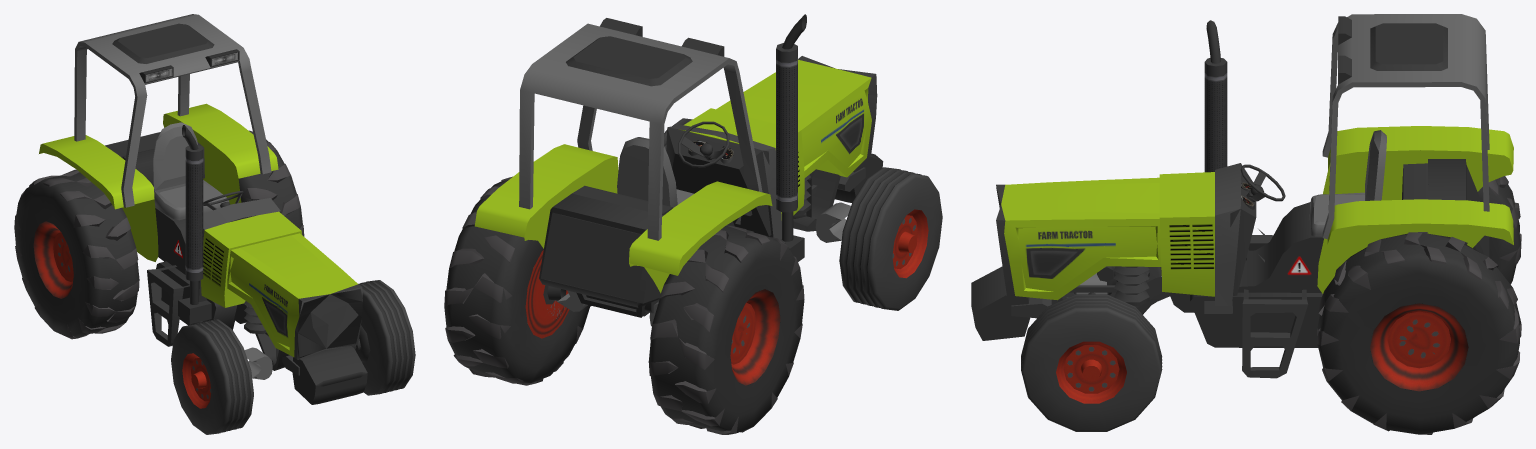
The model's file is tractor.fbx.
3 renders of one model, left to right at view 1: azimuth 30°, elevation 25°; view 2: azimuth 150°, elevation 25°; view 3: azimuth 270°, elevation 25°, orthographic. The views are drawn at different scales.
Parts seen in each view (by area): view 1: Tractor Body_Textures Body Tractor_0, Tractor Wheel_BR_Textures Wheel_0, Tractor Wheel_FR_Textures Wheel_0, Tractor Wheel_FL_Textures Wheel_0, Tractor Wheel_BL_Textures Wheel_0; view 2: Tractor Body_Textures Body Tractor_0, Tractor Wheel_BR_Textures Wheel_0, Tractor Wheel_BL_Textures Wheel_0, Tractor Wheel_FR_Textures Wheel_0, Steer_Textures Body Tractor_0; view 3: Tractor Body_Textures Body Tractor_0, Tractor Wheel_BL_Textures Wheel_0, Tractor Wheel_FL_Textures Wheel_0, Tractor Wheel_BR_Textures Wheel_0, Steer_Textures Body Tractor_0.
Boxes of the visible parts, x1,y1,x2,y2 form: Tractor Body_Textures Body Tractor_0: (39,14,370,404); Tractor Wheel_BR_Textures Wheel_0: (14,169,139,339); Tractor Wheel_FR_Textures Wheel_0: (171,319,253,434); Tractor Wheel_FL_Textures Wheel_0: (358,280,415,395); Tractor Wheel_BL_Textures Wheel_0: (238,130,304,236); Tractor Body_Textures Body Tractor_0: (474,14,883,326); Tractor Wheel_BR_Textures Wheel_0: (648,225,804,434); Tractor Wheel_BL_Textures Wheel_0: (444,176,591,385); Tractor Wheel_FR_Textures Wheel_0: (839,167,942,310); Steer_Textures Body Tractor_0: (678,121,729,167); Tractor Body_Textures Body Tractor_0: (971,14,1513,378); Tractor Wheel_BL_Textures Wheel_0: (1317,232,1521,434); Tractor Wheel_FL_Textures Wheel_0: (1021,294,1162,431); Tractor Wheel_BR_Textures Wheel_0: (1477,176,1521,284); Steer_Textures Body Tractor_0: (1240,164,1285,201).
Size of the model in its own units: 71.2 by 87.16 by 131.
Materials: 2 (2 with a texture image).
